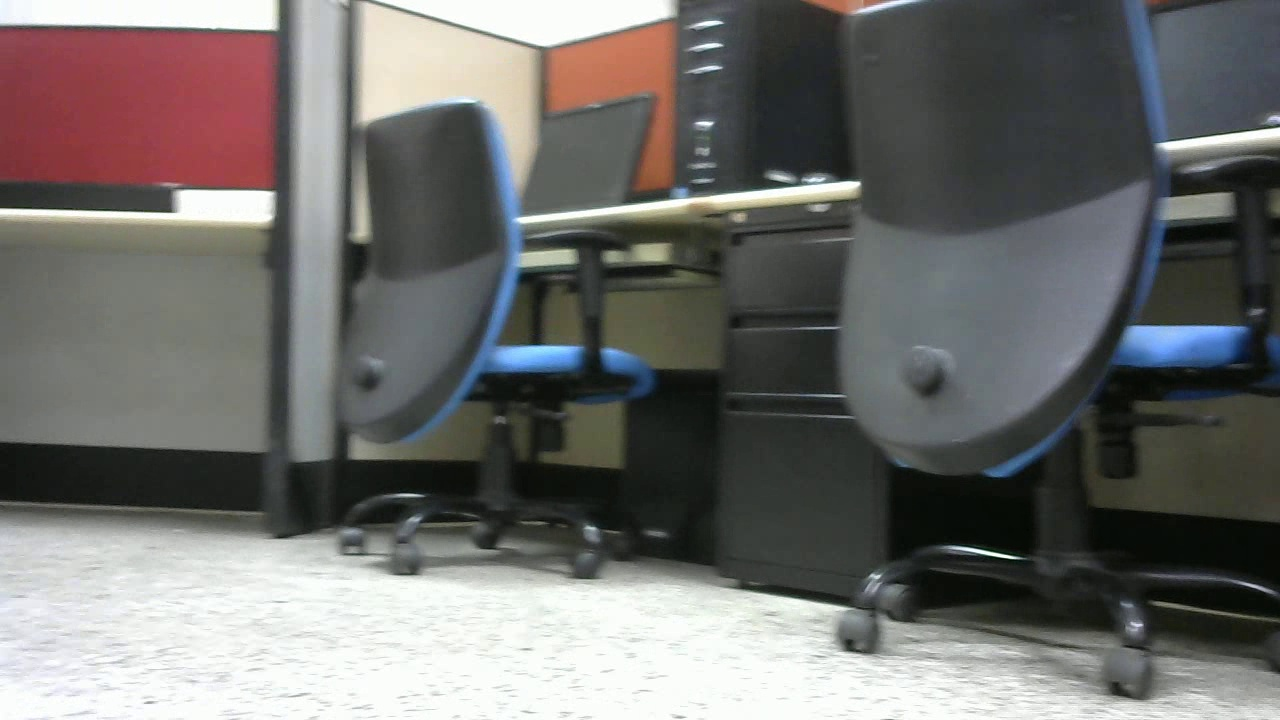chair: (829, 4, 1276, 700), (321, 99, 658, 589)
